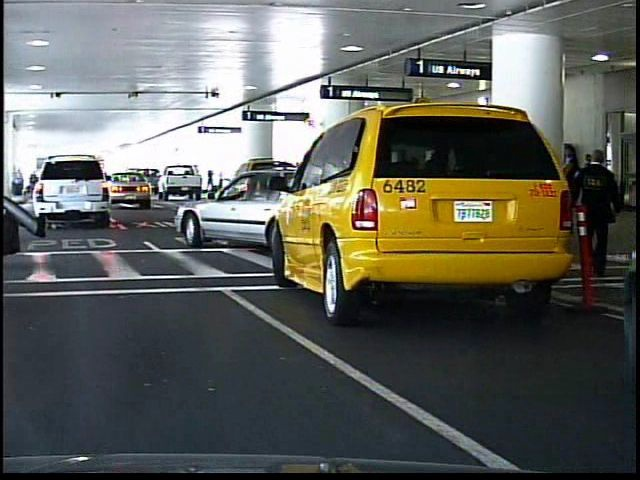person: (574, 149, 618, 284), (551, 140, 582, 258)
